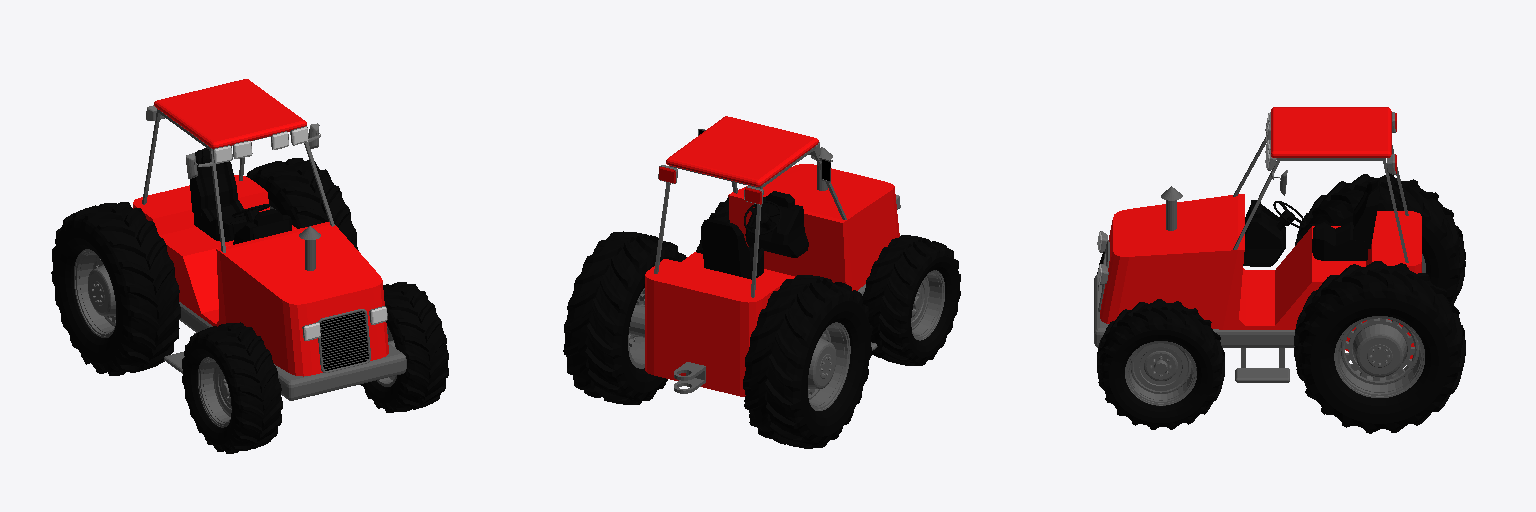
Rendered from Tractor.obj.
3 views of the same model, side by side, from view 1: azimuth 30°, elevation 25°; view 2: azimuth 150°, elevation 25°; view 3: azimuth 270°, elevation 25° (orthographic).
Visible parts, largest first — view 1: Tractor; view 2: Tractor; view 3: Tractor.
Boxes of the visible parts, x1,y1,x2,y2 form: Tractor: [51, 79, 448, 453]; Tractor: [563, 116, 960, 448]; Tractor: [1094, 107, 1465, 433].
Bounding box in the file's own units: 3.1 × 3.19 × 4.24.